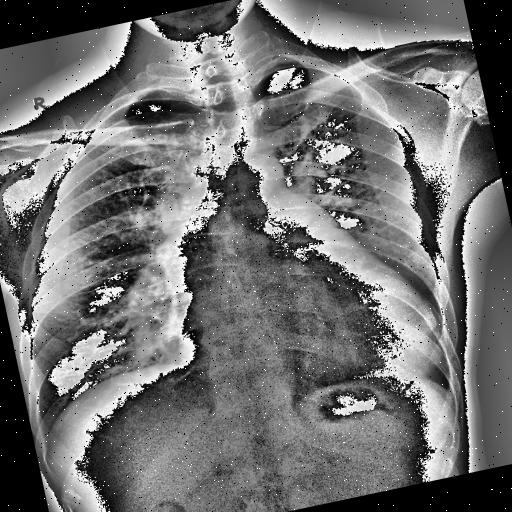3- Cardiomegaly: (160, 176, 450, 422), (170, 264, 450, 418), (170, 258, 442, 386)
6- Infiltration: (97, 249, 201, 365)
